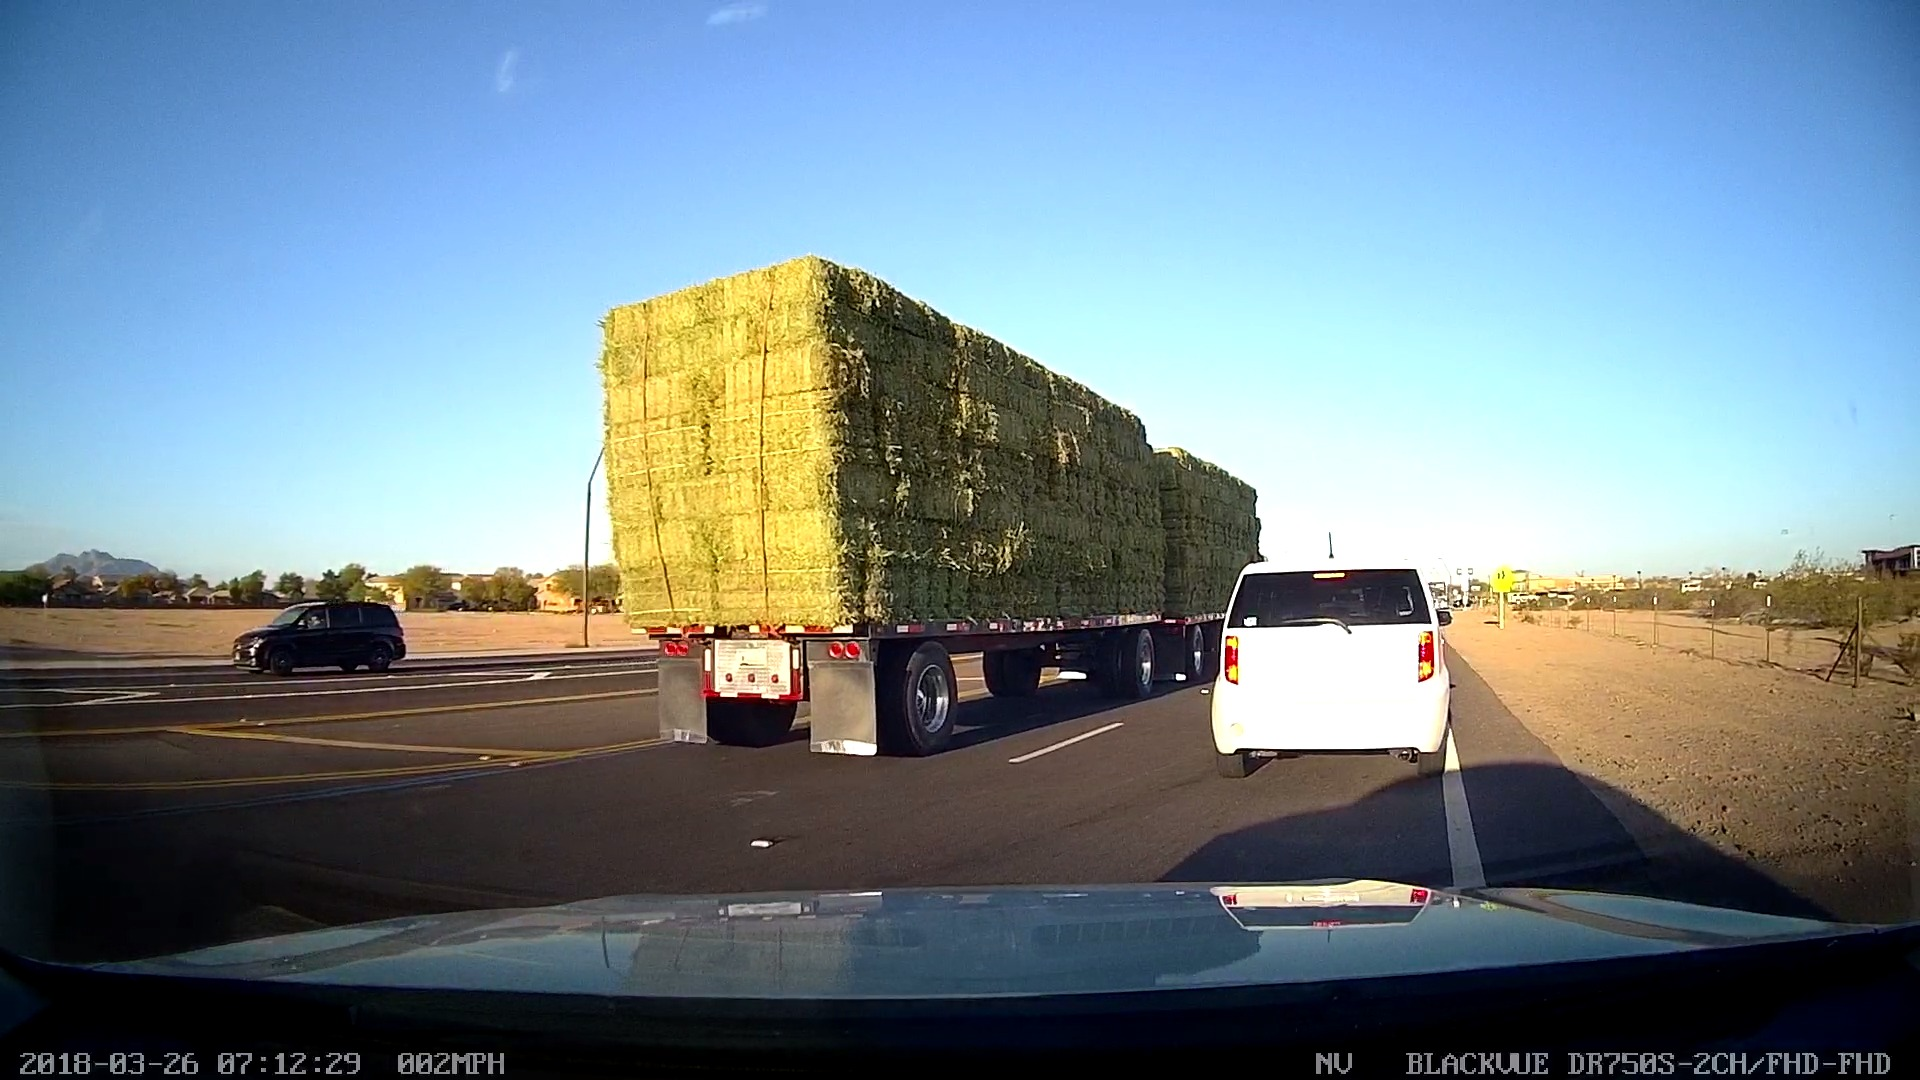vehicle: (603, 251, 1262, 753), (1208, 556, 1462, 771), (225, 597, 409, 676)
